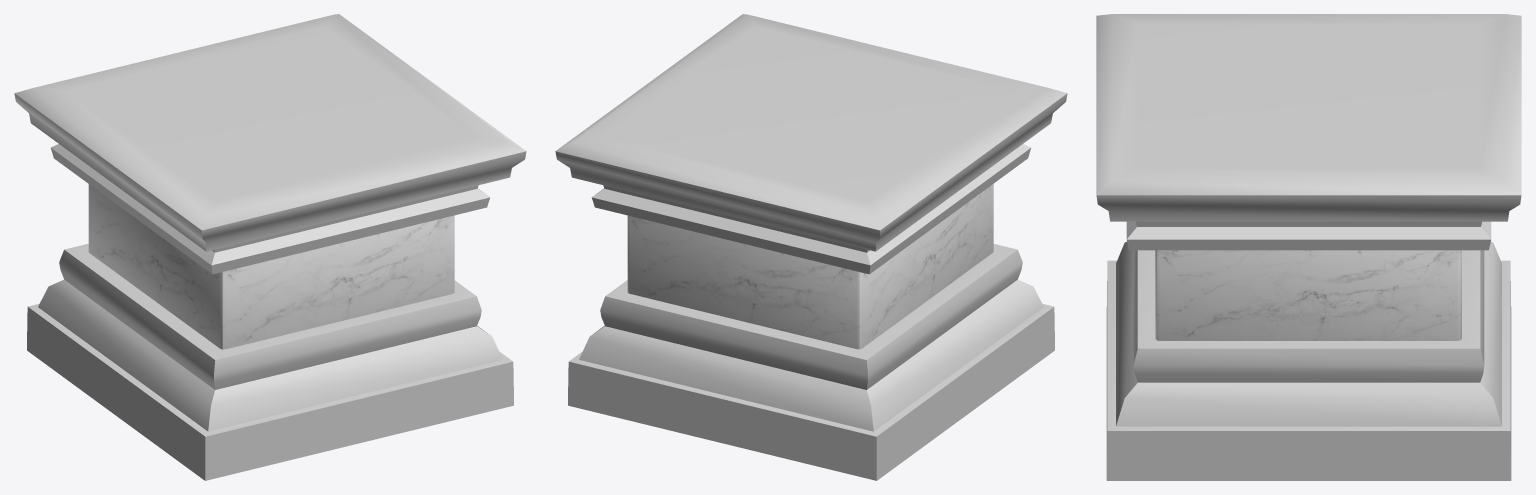
File: pedestal_01.fbx
3 renders of one model, left to right at view 1: azimuth 30°, elevation 25°; view 2: azimuth 150°, elevation 25°; view 3: azimuth 270°, elevation 25°, orthographic. The views are drawn at different scales.
Visible parts, largest first — view 1: Null_1; view 2: Null_1; view 3: Null_1.
Part boxes in pixels (bbox=[...]): Null_1: bbox=[14, 14, 526, 480]; Null_1: bbox=[555, 14, 1067, 480]; Null_1: bbox=[1096, 14, 1521, 480].
Size of the model in its own units: 139 by 108 by 139.
